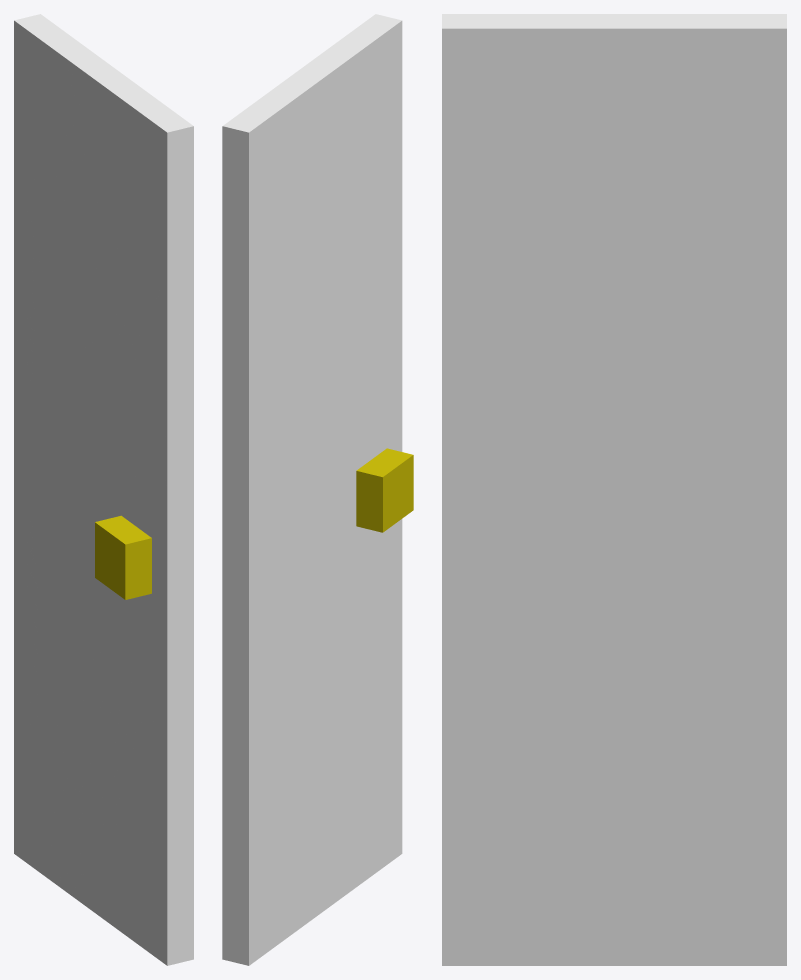
Rendered from closet door.obj.
The picture shows the model from 3 angles, left to right: view 1: azimuth 30°, elevation 25°; view 2: azimuth 150°, elevation 25°; view 3: azimuth 270°, elevation 25°; orthographic projection. The views are drawn at different scales.
Size of the model in its own units: 0.2 by 3 by 1.
1 material, 1 textured.
